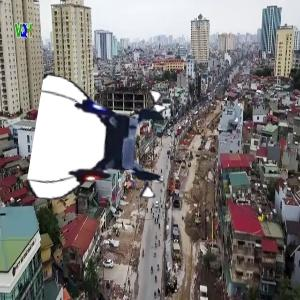drone: (35, 74, 173, 212)
